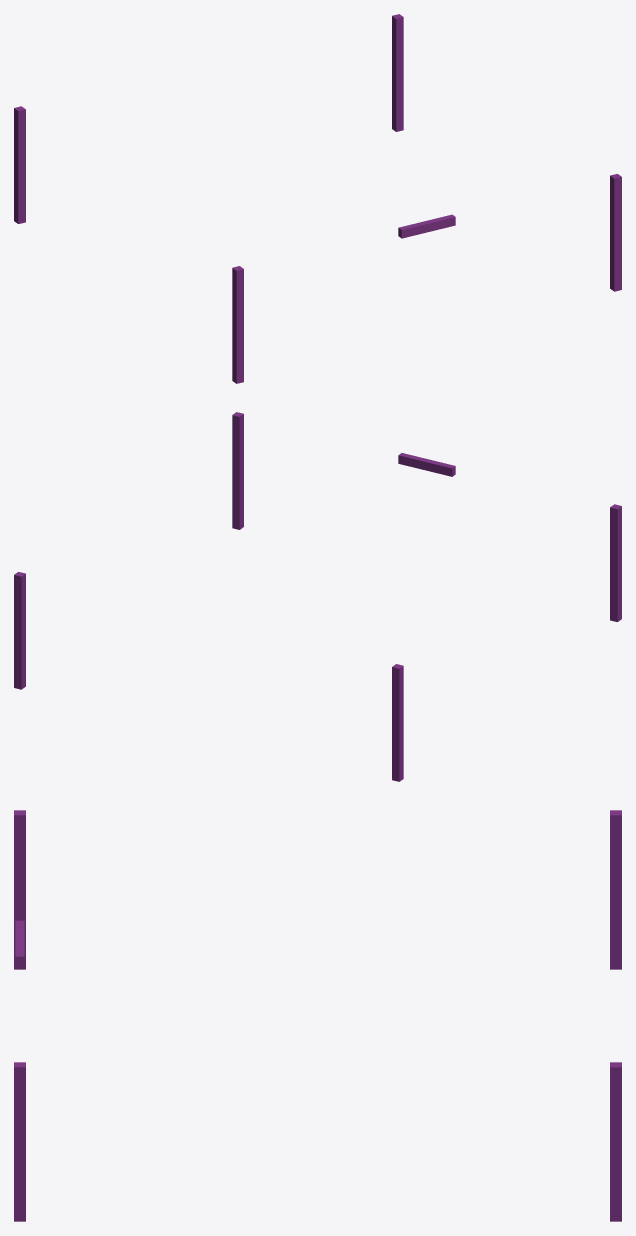
The model's file is accent-skin-9.glb.
3 renders of one model, top to bottom at view 1: azimuth 30°, elevation 25°; view 2: azimuth 150°, elevation 25°; view 3: azimuth 270°, elevation 25°, orthographic. The views are drawn at different scales.
Visible parts, largest first — view 1: accent-skin-9; view 2: accent-skin-9; view 3: accent-skin-9.
Part boxes in pixels (x1=…): accent-skin-9: x1=14, y1=14, x2=621, y2=383; accent-skin-9: x1=14, y1=412, x2=621, y2=781; accent-skin-9: x1=14, y1=810, x2=621, y2=1221.
Size of the model in its own units: 14.28 by 4 by 14.28.
1 material, 1 textured.
